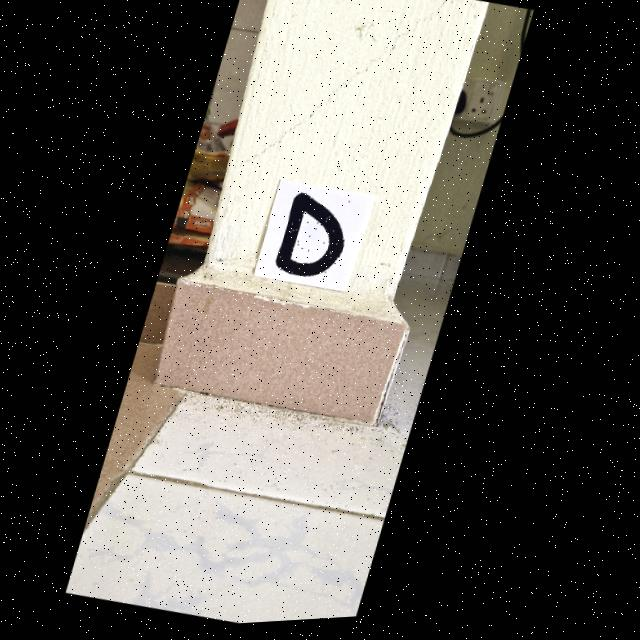D: (279, 196, 347, 280)
